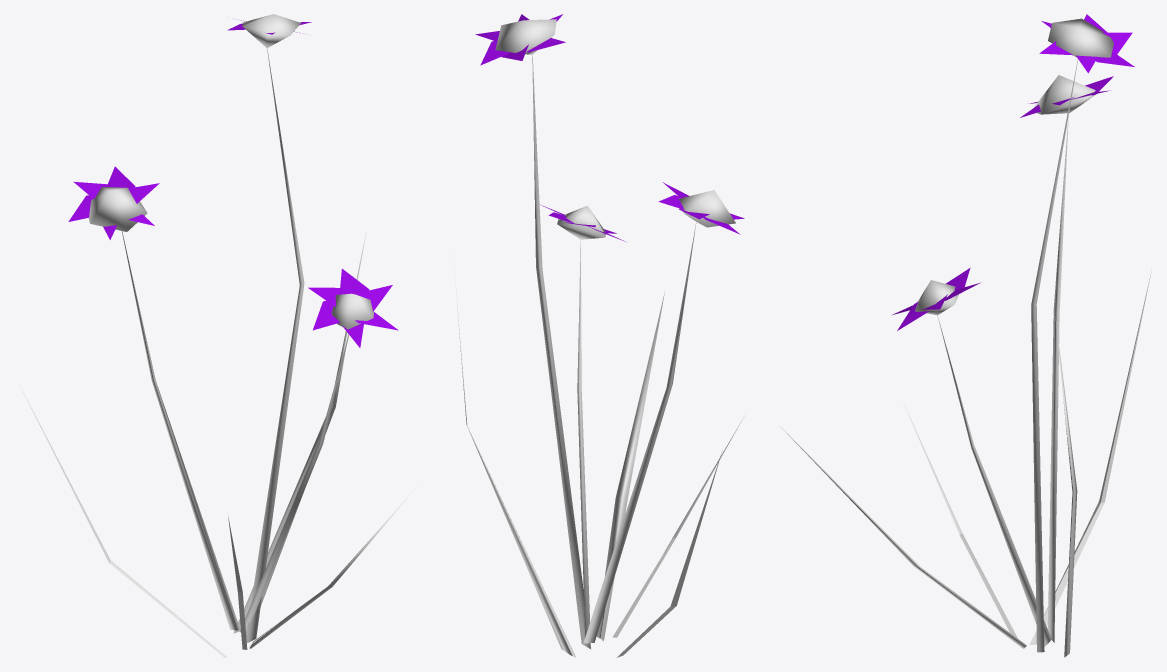
File: echinaceaPlant.glb
3 views of the same model, side by side, from view 1: azimuth 30°, elevation 25°; view 2: azimuth 150°, elevation 25°; view 3: azimuth 270°, elevation 25° (orthographic). The views are drawn at different scales.
Parts seen in each view (by area): view 1: Icosphere, Icosphere.001; view 2: Icosphere, Icosphere.001; view 3: Icosphere, Icosphere.001.
Part boxes in pixels (x1=…): Icosphere: x1=68, y1=14, x2=398, y2=642; Icosphere.001: x1=19, y1=232, x2=418, y2=657; Icosphere: x1=475, y1=14, x2=744, y2=649; Icosphere.001: x1=452, y1=239, x2=744, y2=657; Icosphere: x1=891, y1=14, x2=1134, y2=652; Icosphere.001: x1=780, y1=269, x2=1151, y2=657.
Size of the model in its own units: 0.4942 by 0.9383 by 0.4918.
